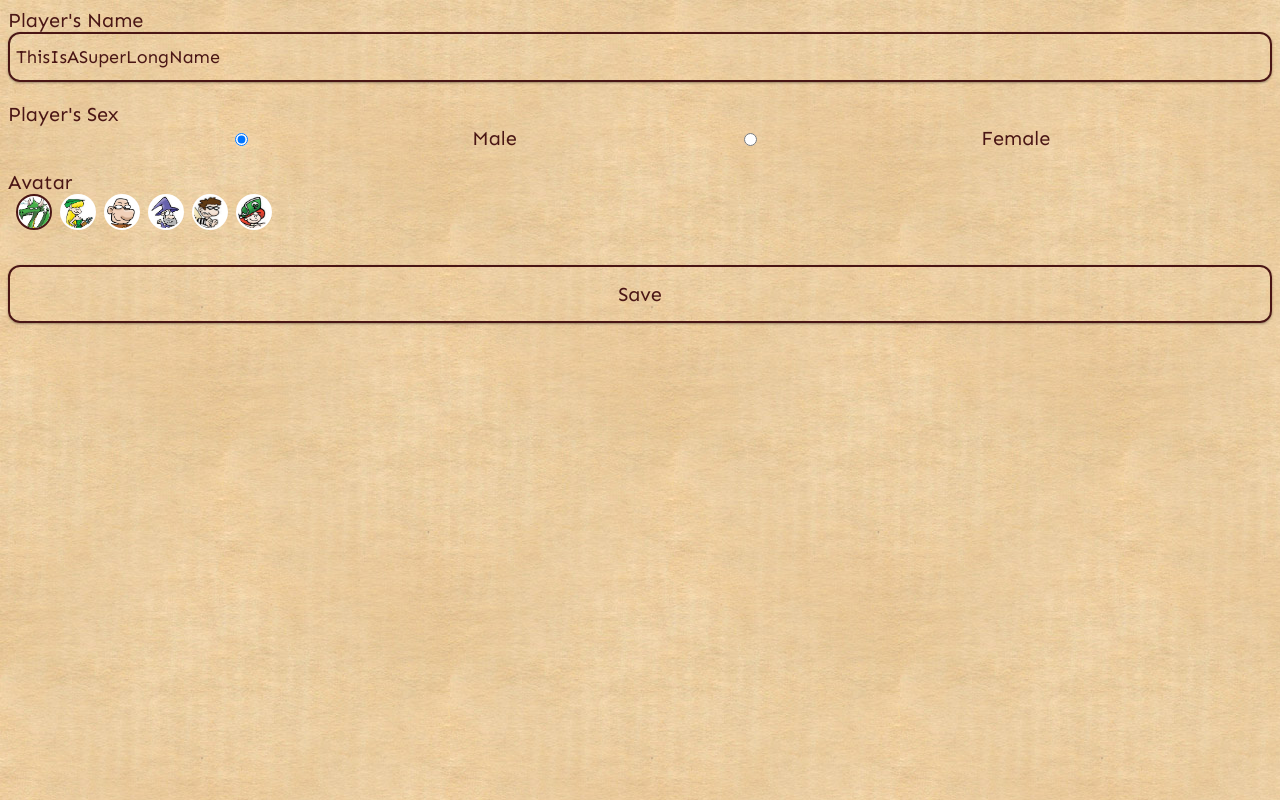
Test: <PlayerForm/> › handle player name max character error
Click the button with test id "player-form__submit".
click(640, 294)  # box x1=8 y1=265 x2=1272 y2=323
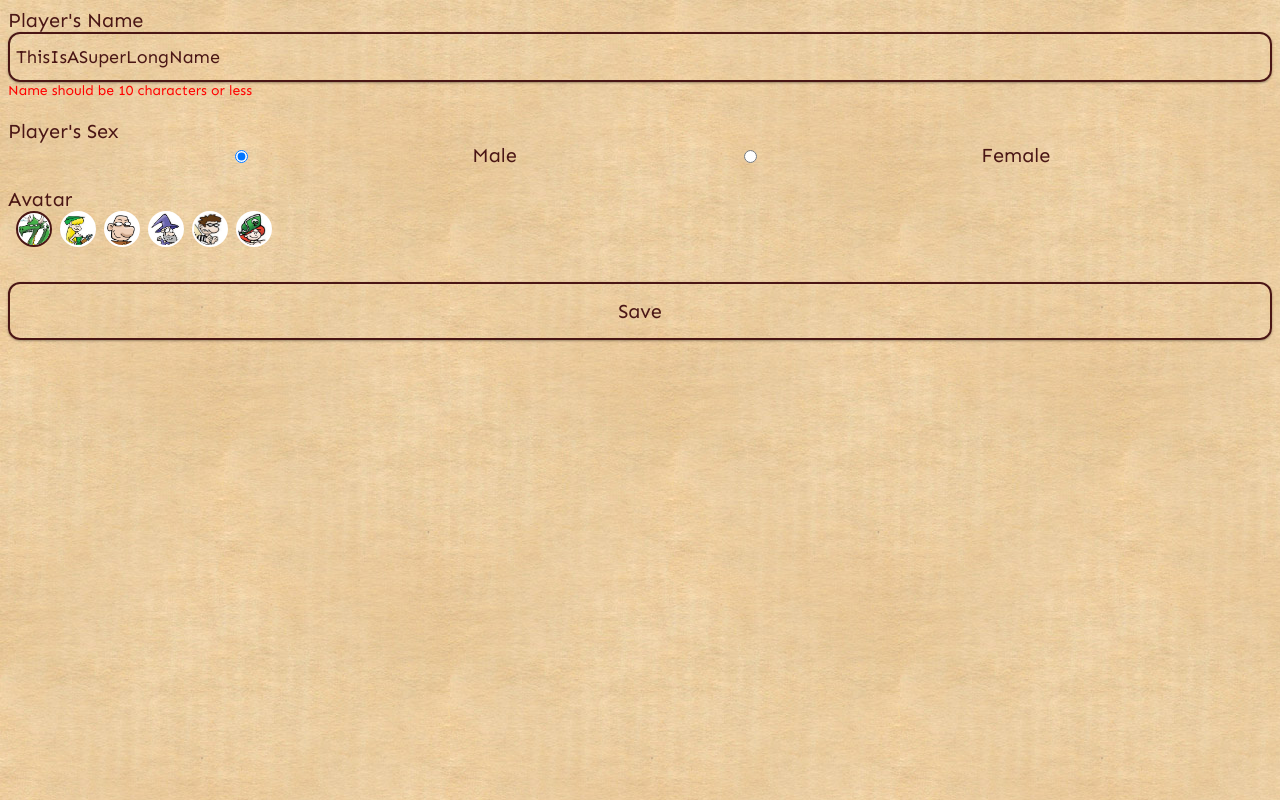
Expected: the text "Name should be 10 characters or less" is shown, x1=8 y1=82 x2=252 y2=99
